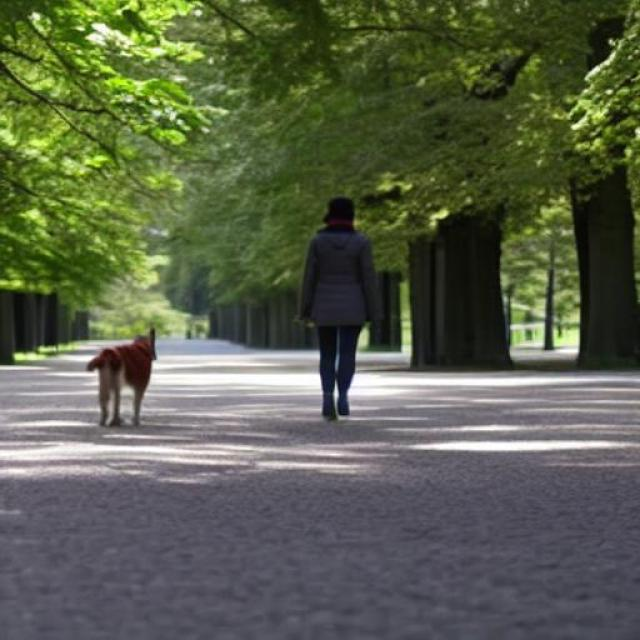Unleashed_Dog: (86, 325, 362, 426)
